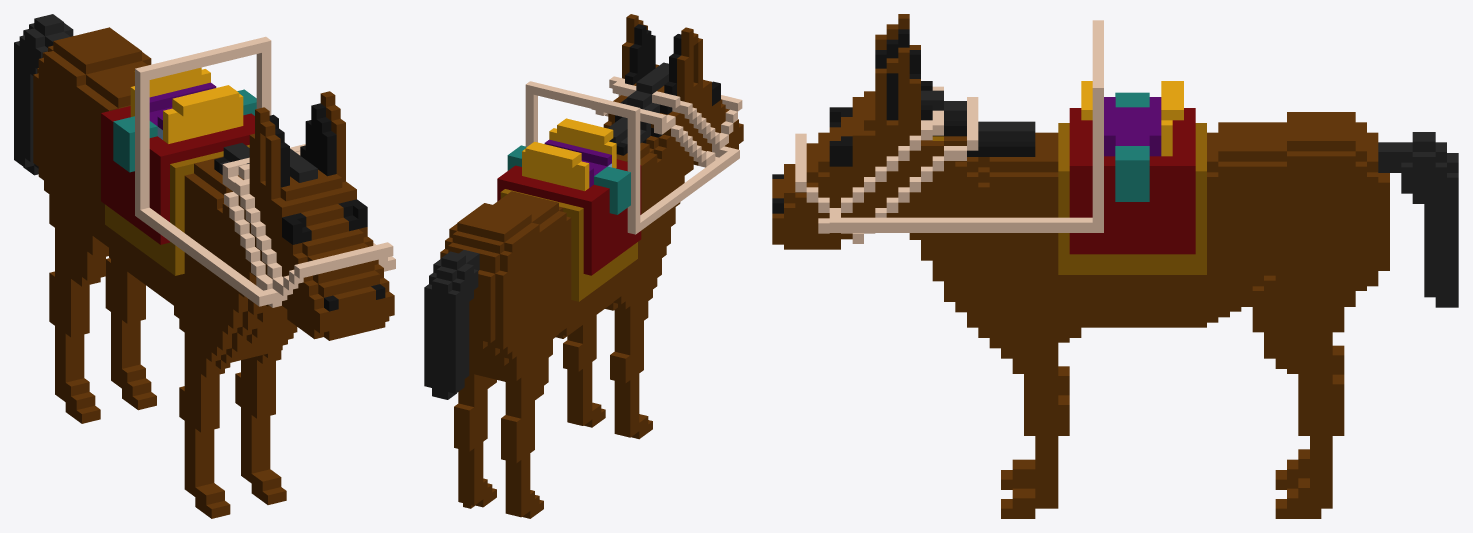
File: horse.obj
3 views of the same model, side by side, from view 1: azimuth 30°, elevation 25°; view 2: azimuth 150°, elevation 25°; view 3: azimuth 270°, elevation 25° (orthographic). The views are drawn at different scales.
Size of the model in its own units: 14 by 45 by 60.
Materials: 1 (1 with a texture image).
